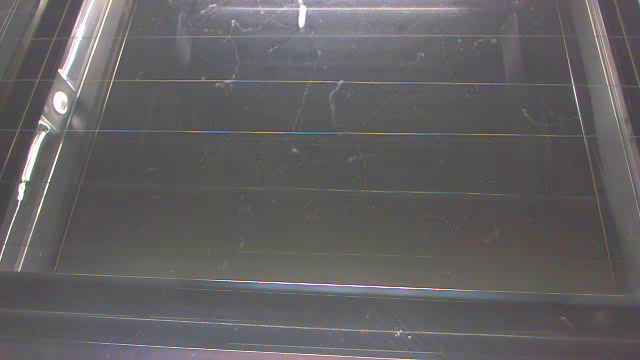alpha: (288, 1, 321, 33)
